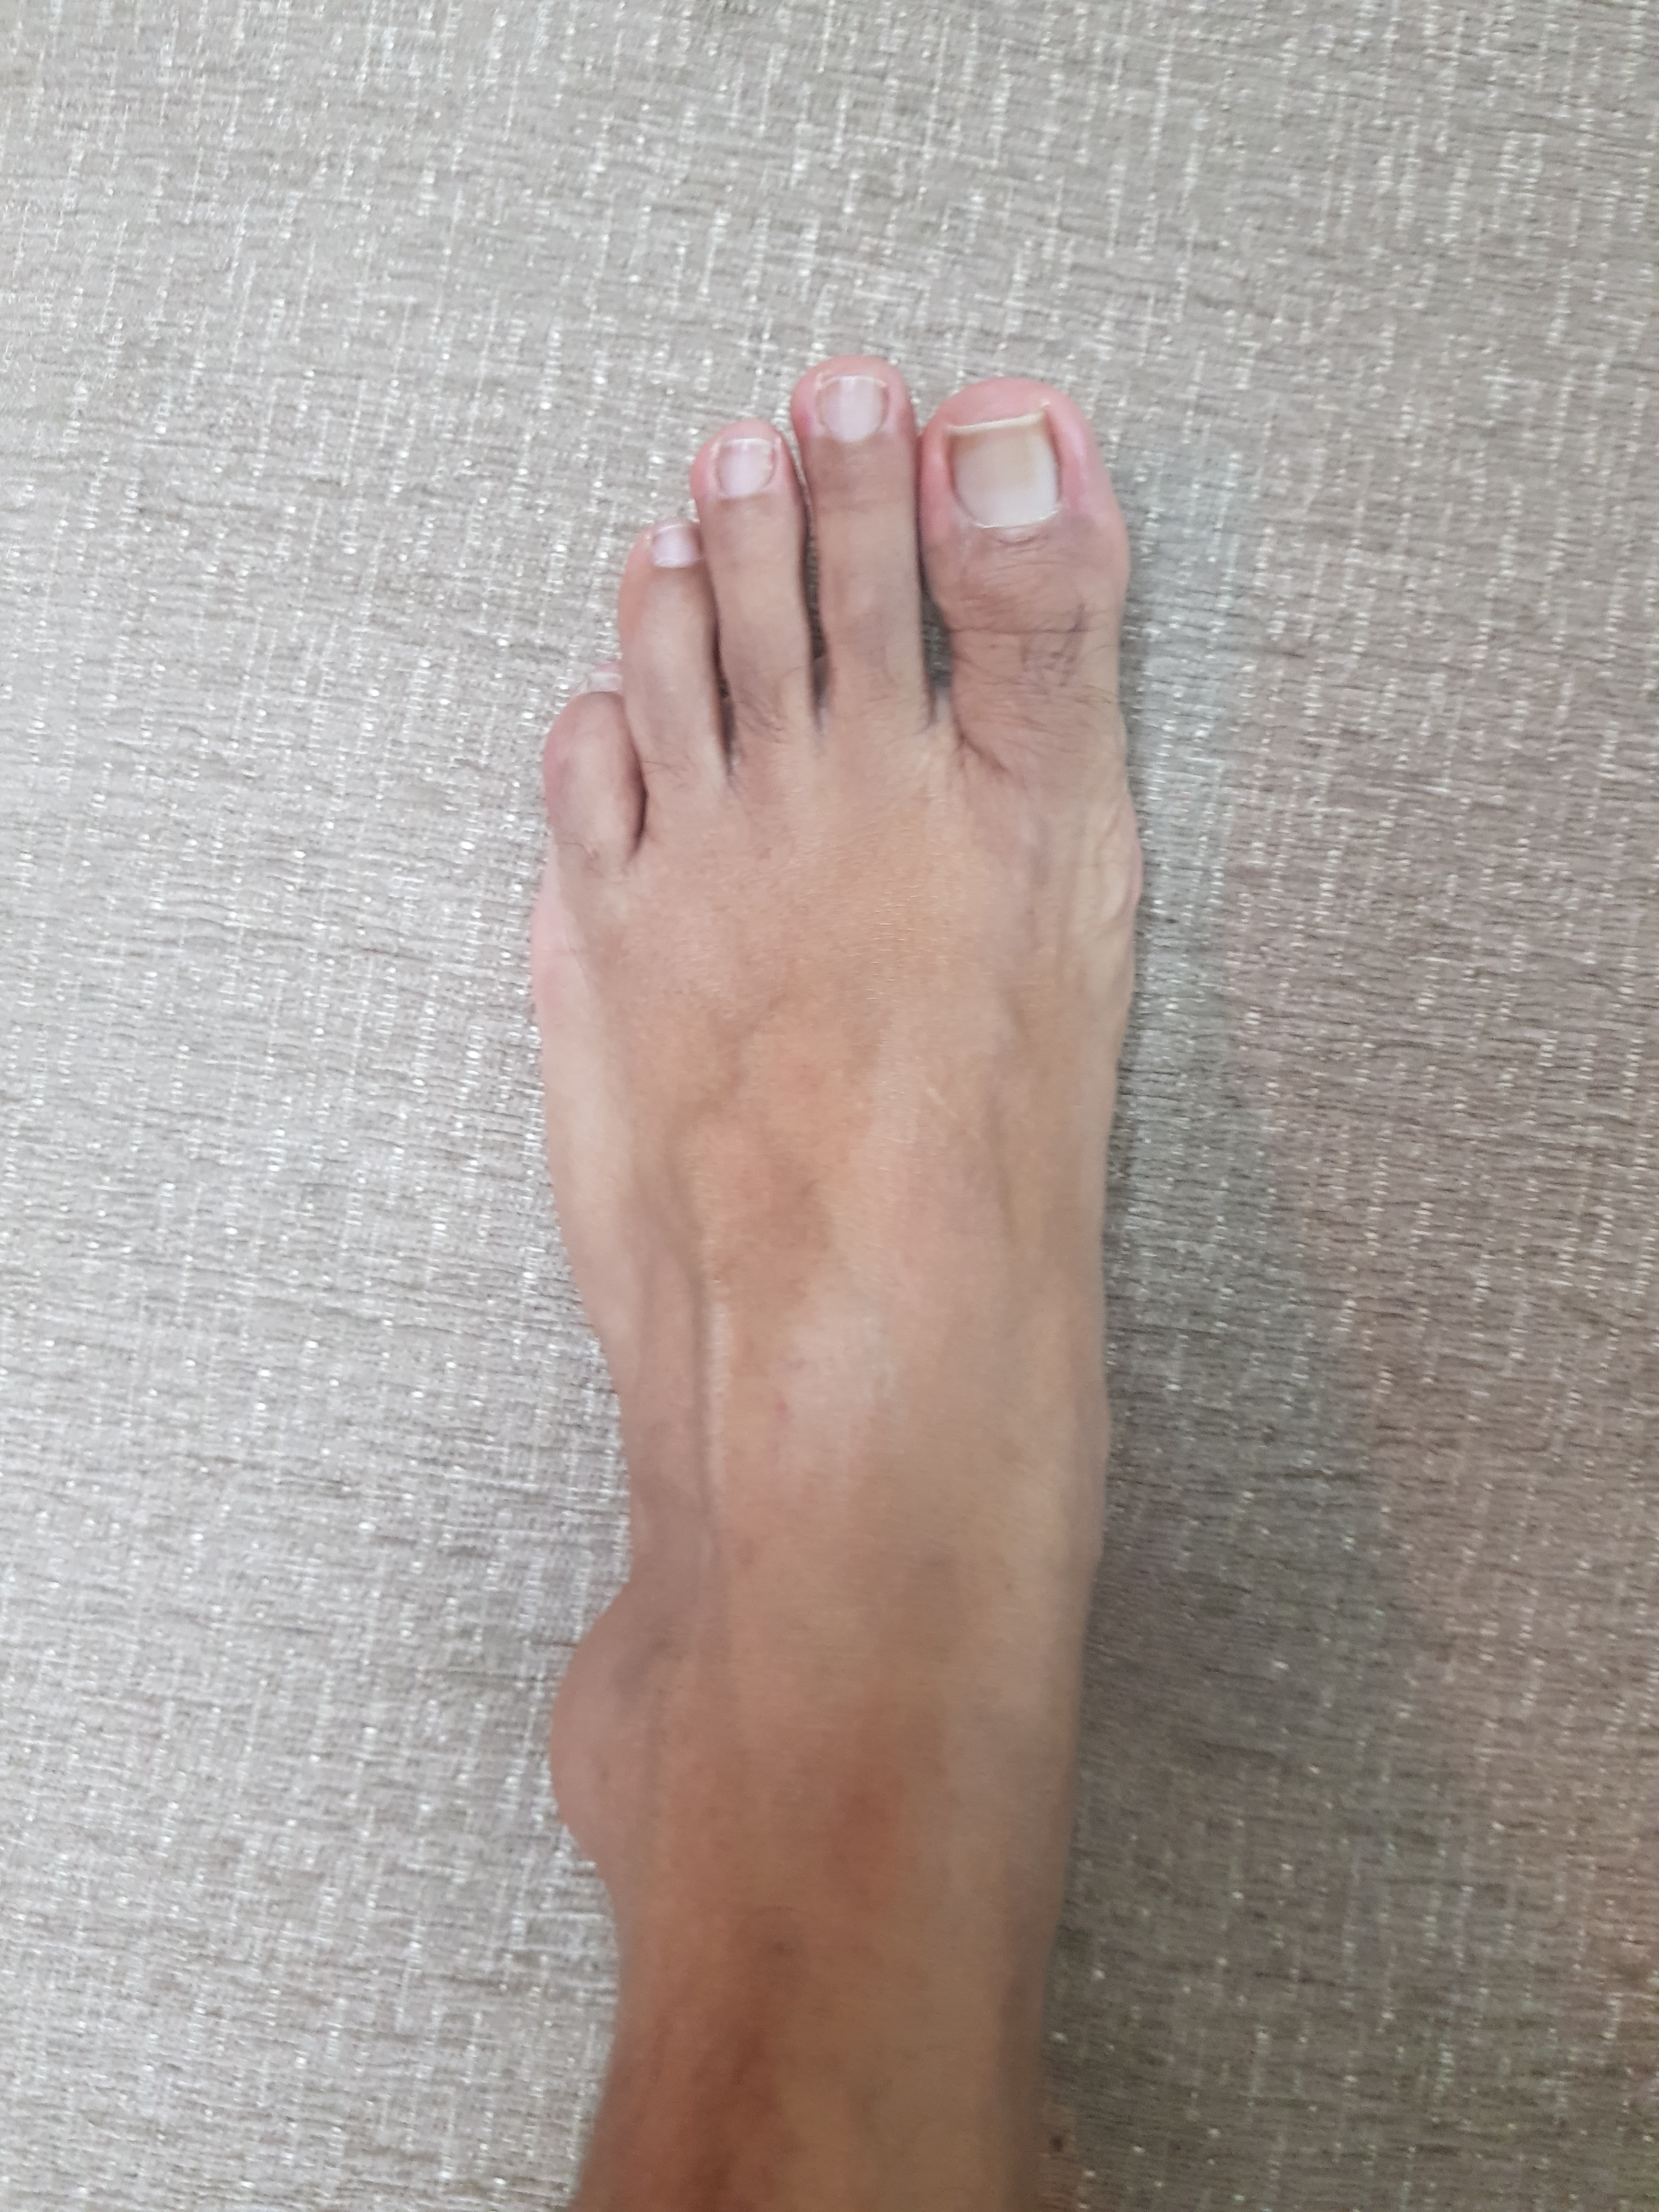feet: (434, 331, 1243, 1893)
